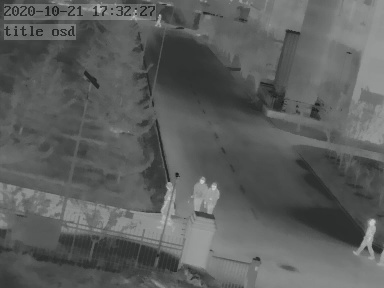person: (355, 214, 377, 256), (161, 183, 177, 230), (189, 174, 206, 212), (206, 181, 218, 216), (155, 12, 162, 27)
